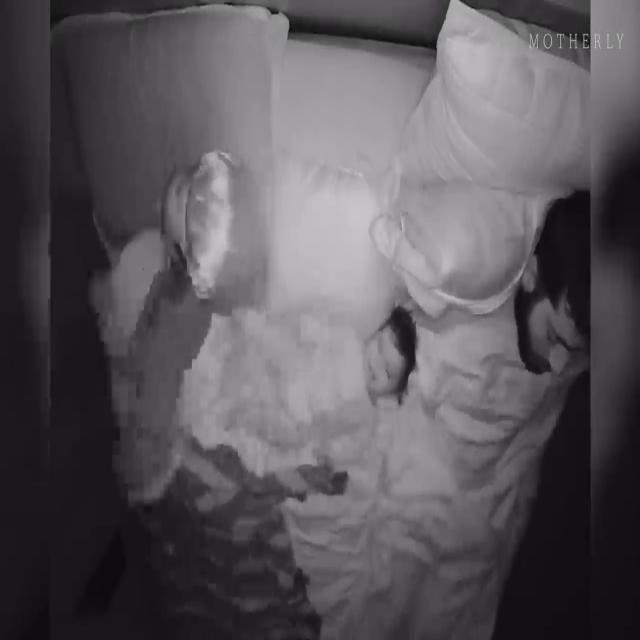baby: (230, 304, 420, 454)
